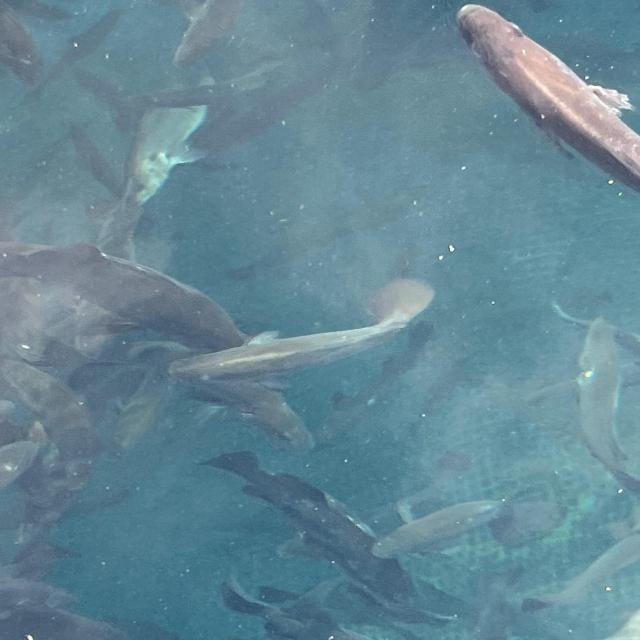ikan: (2, 240, 434, 458), (195, 448, 460, 625), (454, 3, 639, 193), (165, 275, 435, 384), (526, 301, 638, 497)
